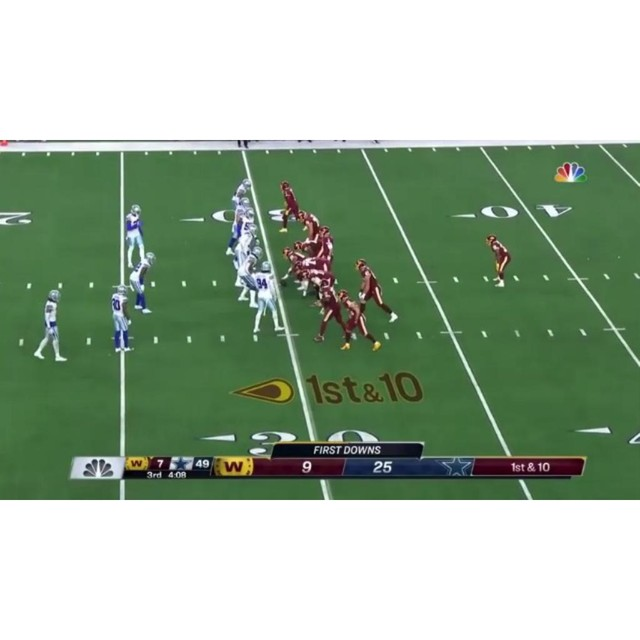american-football-player: (354, 259, 399, 323), (337, 291, 381, 353), (32, 289, 68, 362), (313, 278, 347, 343), (252, 263, 281, 339), (128, 252, 157, 314), (108, 285, 133, 352), (235, 245, 262, 306), (224, 200, 253, 256), (485, 234, 511, 289), (124, 204, 147, 266), (279, 245, 310, 287), (302, 267, 337, 303), (232, 223, 257, 273), (278, 180, 302, 232), (297, 210, 321, 249), (231, 179, 252, 212)
